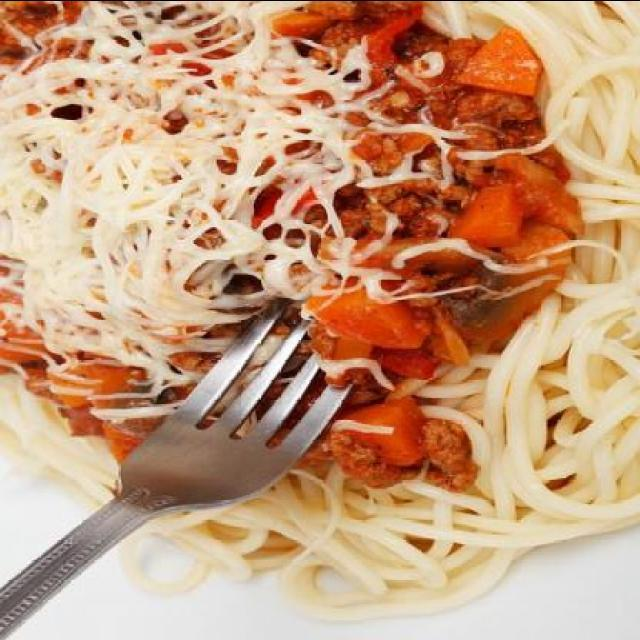Pasta al ragu: (12, 3, 560, 459)
